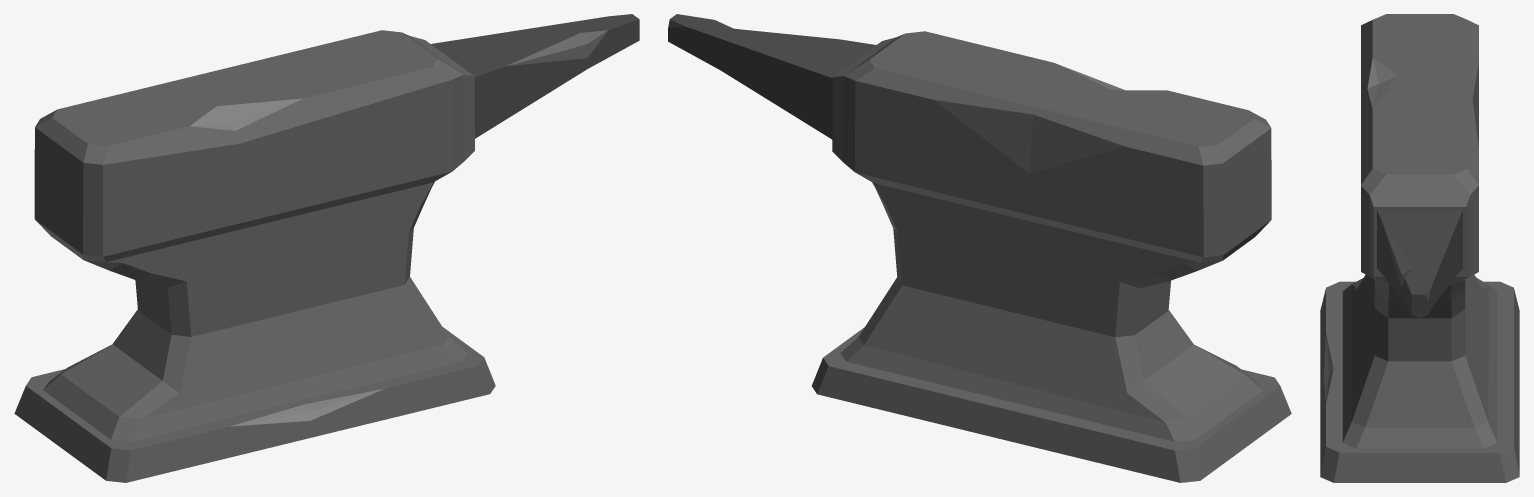
File: Anvil1.fbx
3 views of the same model, side by side, from view 1: azimuth 30°, elevation 25°; view 2: azimuth 150°, elevation 25°; view 3: azimuth 270°, elevation 25° (orthographic). The views are drawn at different scales.
Parts seen in each view (by area): view 1: Anvil1; view 2: Anvil1; view 3: Anvil1.
Part boxes in pixels (bbox=[...]): Anvil1: bbox=[14, 14, 639, 482]; Anvil1: bbox=[668, 14, 1291, 482]; Anvil1: bbox=[1320, 14, 1519, 482].
Bounding box in the file's own units: 104 × 54.38 × 33.28.
